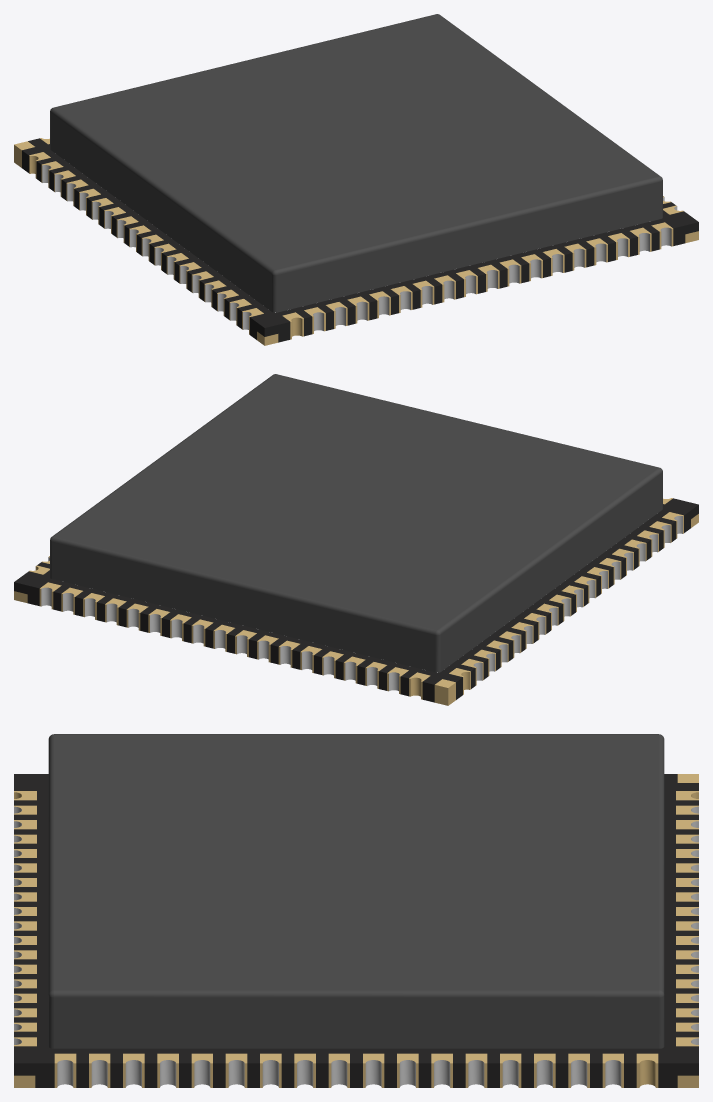
The model's file is kc-sipeed-m1.glb.
3 renders of one model, top to bottom at view 1: azimuth 30°, elevation 25°; view 2: azimuth 150°, elevation 25°; view 3: azimuth 270°, elevation 25°, orthographic. The views are drawn at different scales.
Parts seen in each view (by area): view 1: 0.08333333333333333_0.08333333333333333_0.08333333333333333_, 0_0_0_0, 0.75_0.5_0.25_0.9, 0.5833333333333334_0.5833333333333334_0.5833333333333334_0.8; view 2: 0.08333333333333333_0.08333333333333333_0.08333333333333333_, 0_0_0_0, 0.75_0.5_0.25_0.9, 0.5833333333333334_0.5833333333333334_0.5833333333333334_0.8; view 3: 0.08333333333333333_0.08333333333333333_0.08333333333333333_, 0_0_0_0, 0.75_0.5_0.25_0.9, 0.5833333333333334_0.5833333333333334_0.5833333333333334_0.8.
Boxes of the visible parts, <box> form: 0.08333333333333333_0.08333333333333333_0.08333333333333333_: <box>50,14,662,312</box>; 0_0_0_0: <box>22,138,698,342</box>; 0.75_0.5_0.25_0.9: <box>14,138,698,345</box>; 0.5833333333333334_0.5833333333333334_0.5833333333333334_0.8: <box>42,165,677,330</box>; 0.08333333333333333_0.08333333333333333_0.08333333333333333_: <box>50,374,662,672</box>; 0_0_0_0: <box>14,498,698,702</box>; 0.75_0.5_0.25_0.9: <box>14,498,698,705</box>; 0.5833333333333334_0.5833333333333334_0.5833333333333334_0.8: <box>41,516,682,690</box>; 0.08333333333333333_0.08333333333333333_0.08333333333333333_: <box>48,734,664,1048</box>; 0_0_0_0: <box>14,774,698,1087</box>; 0.75_0.5_0.25_0.9: <box>14,774,698,1087</box>; 0.5833333333333334_0.5833333333333334_0.5833333333333334_0.8: <box>14,806,698,1087</box>.
Size of the model in its own units: 2.54 by 0.3299 by 2.54.
